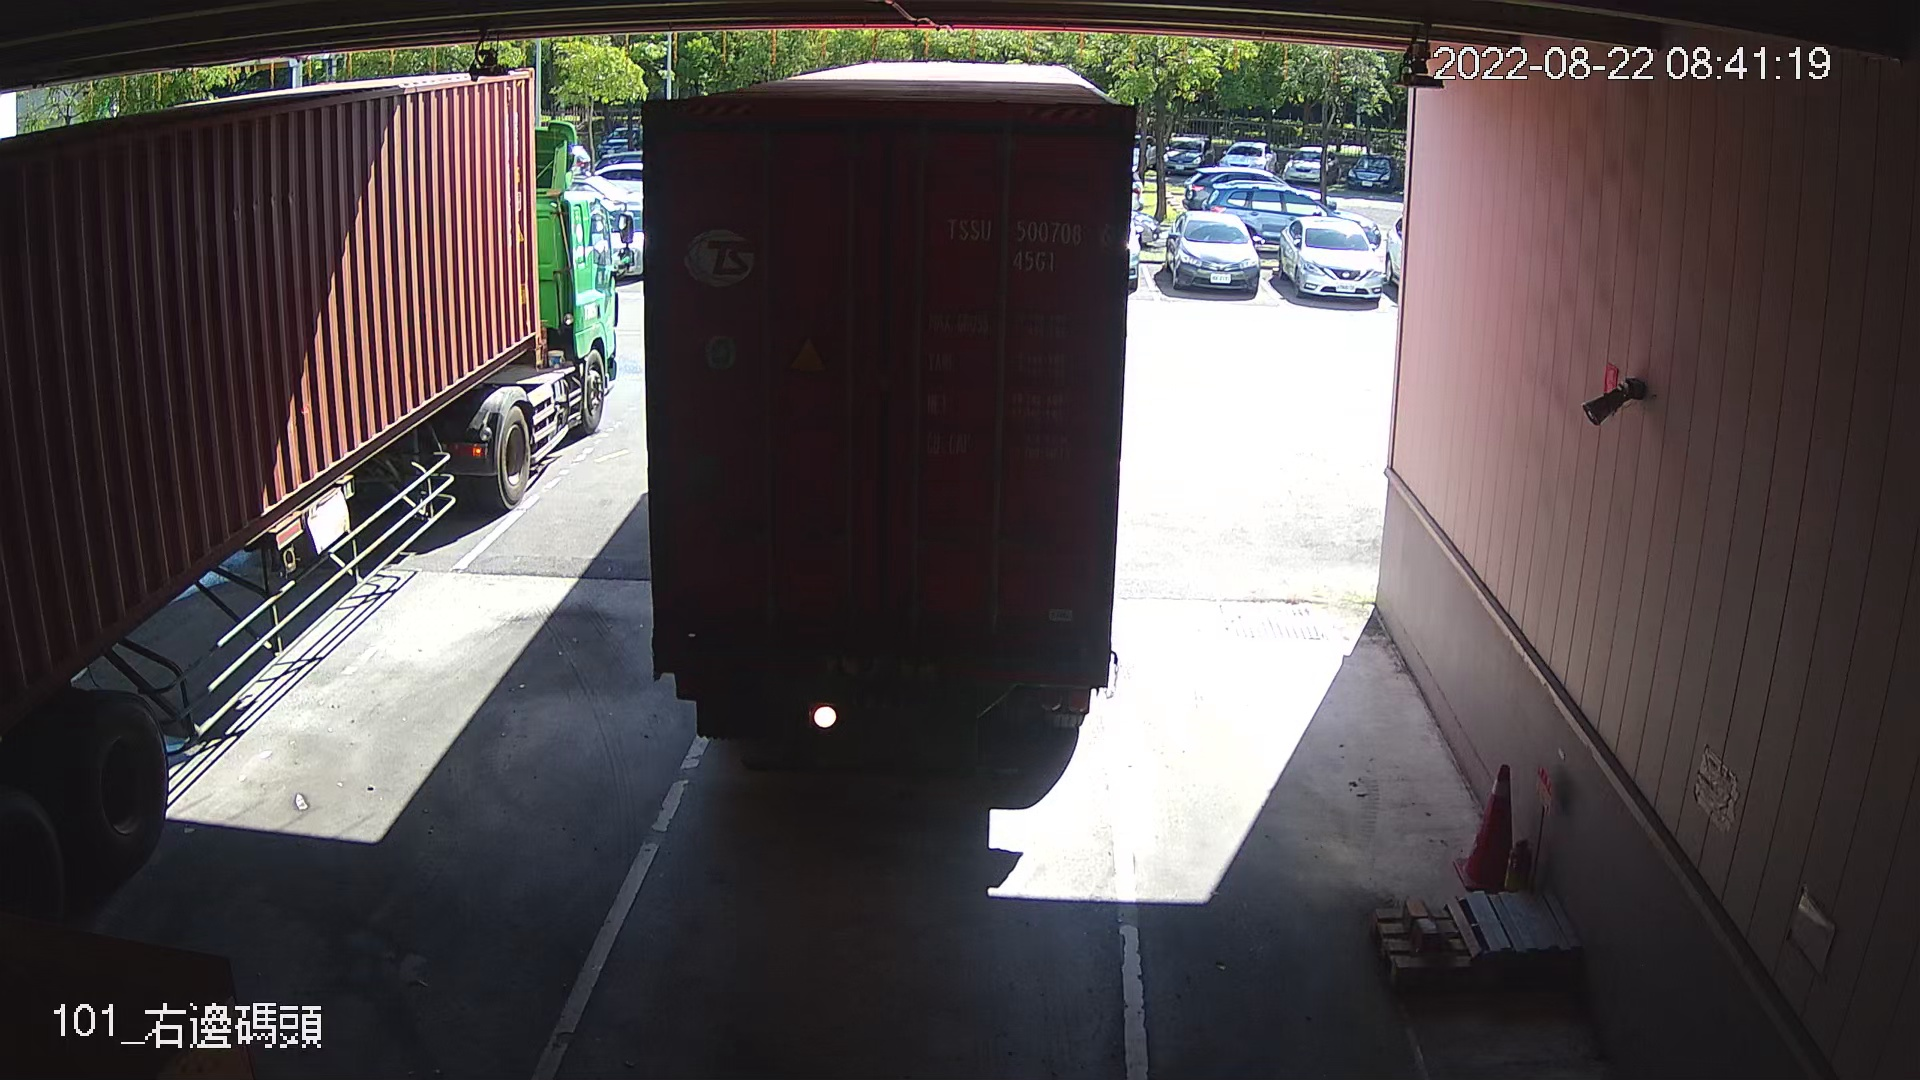container: (935, 204, 1122, 282)
